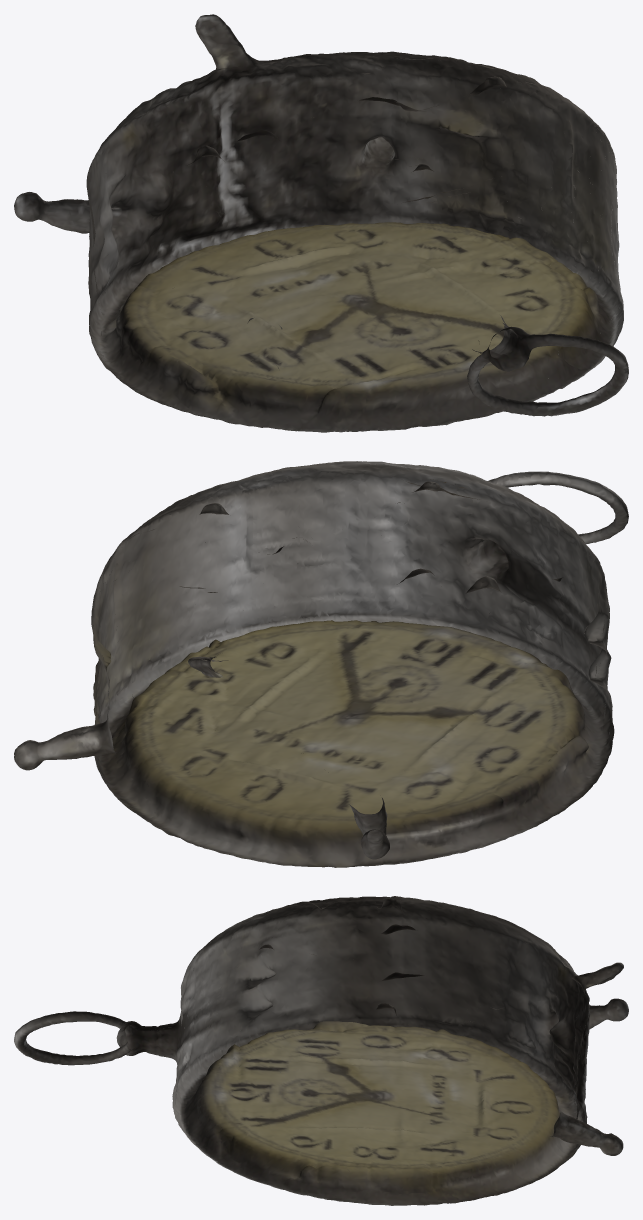
The model's file is alarm.glb.
The picture shows the model from 3 angles, top to bottom: view 1: azimuth 30°, elevation 25°; view 2: azimuth 150°, elevation 25°; view 3: azimuth 270°, elevation 25°; orthographic projection. The views are drawn at different scales.
Bounding box in the file's own units: 0.6767 × 0.3329 × 1.
